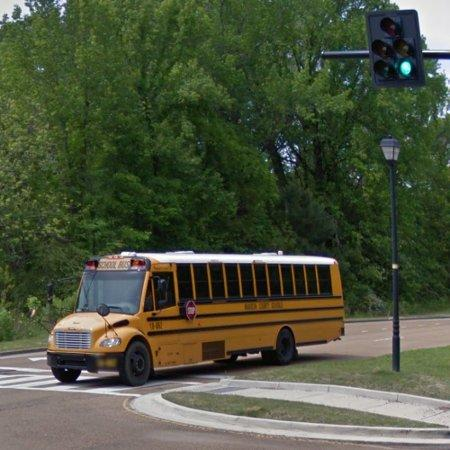buses: (48, 252, 345, 386)
